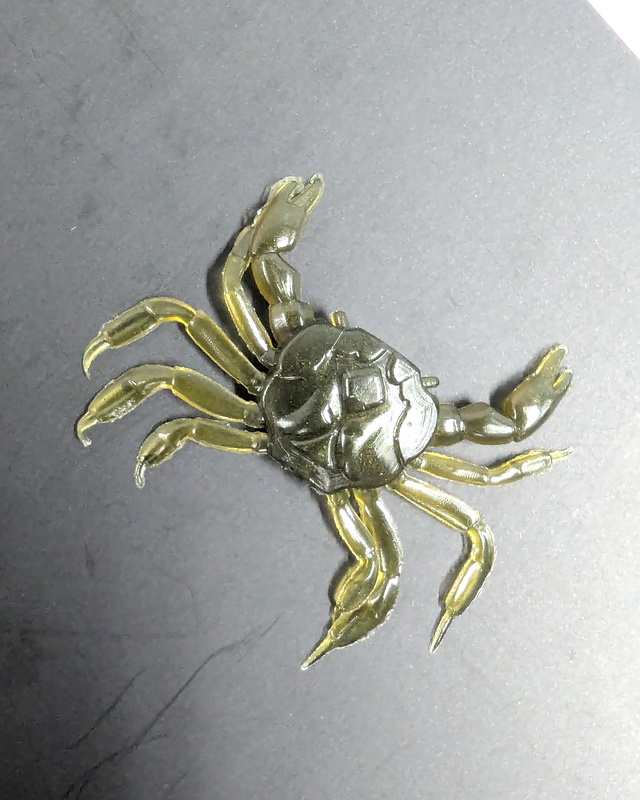crab2: (76, 170, 579, 676)
